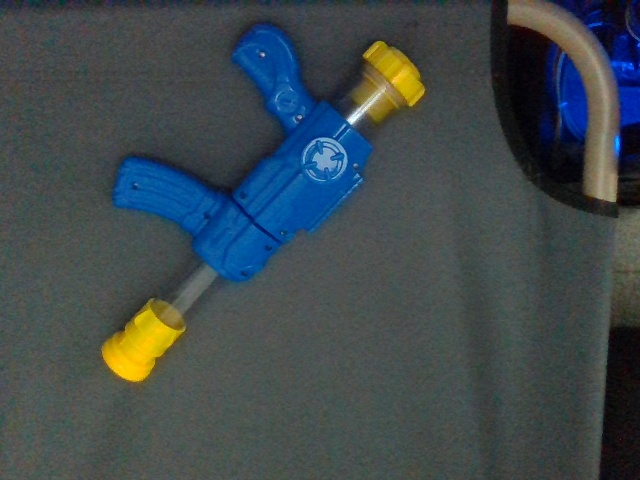screw hole: (202, 211, 211, 222), (240, 269, 249, 277), (240, 192, 248, 201), (130, 182, 137, 190), (265, 245, 273, 252), (353, 163, 360, 170), (259, 51, 266, 58), (295, 115, 303, 121), (280, 230, 287, 236)
toy: (99, 22, 427, 383)
